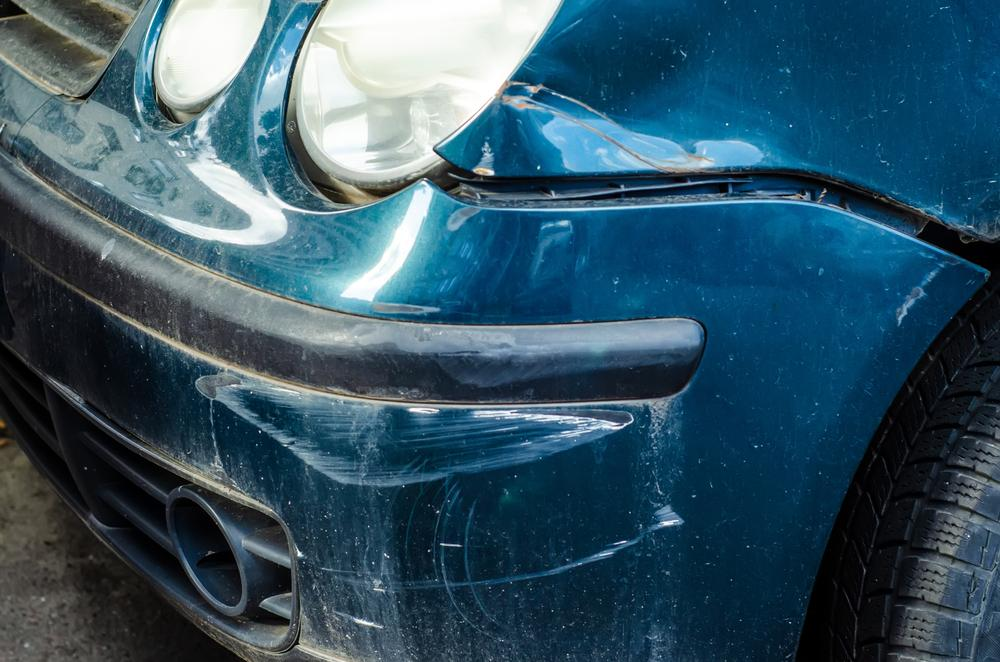dent: (507, 4, 789, 171)
scratch: (194, 369, 645, 493), (361, 500, 689, 594)
